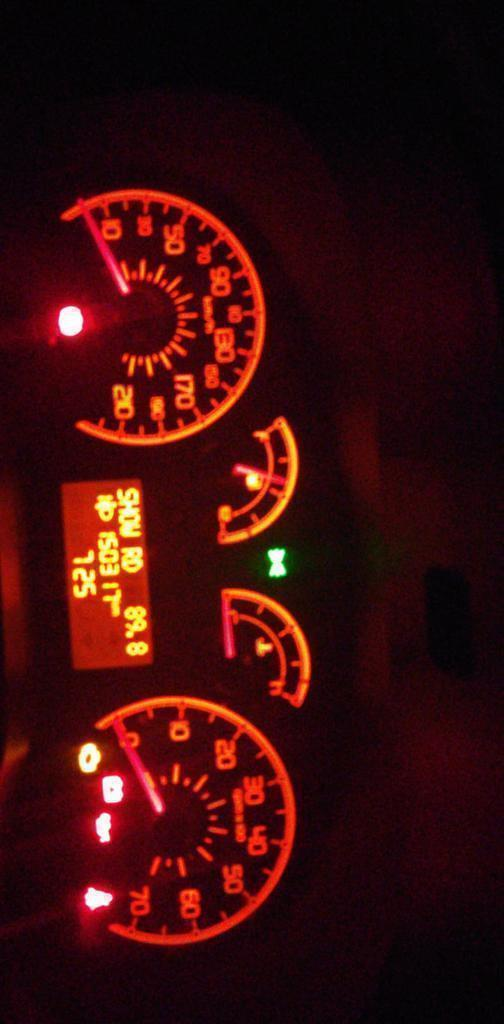,: (123, 631, 136, 639)
0: (97, 548, 119, 563)
1: (93, 493, 114, 501), (96, 531, 117, 537), (99, 582, 120, 588)
2: (71, 568, 96, 581)
3: (97, 563, 121, 577)
5: (71, 582, 97, 598), (96, 537, 119, 549)
7: (71, 548, 95, 564), (99, 589, 122, 600)
8: (125, 640, 148, 657), (123, 605, 146, 619)
9: (122, 620, 147, 631)
X: (117, 499, 141, 513), (116, 487, 140, 500), (118, 524, 142, 537), (120, 546, 144, 559), (120, 559, 144, 572), (117, 514, 141, 523), (110, 608, 121, 617), (110, 601, 121, 607)
odometer: (54, 472, 161, 675)
